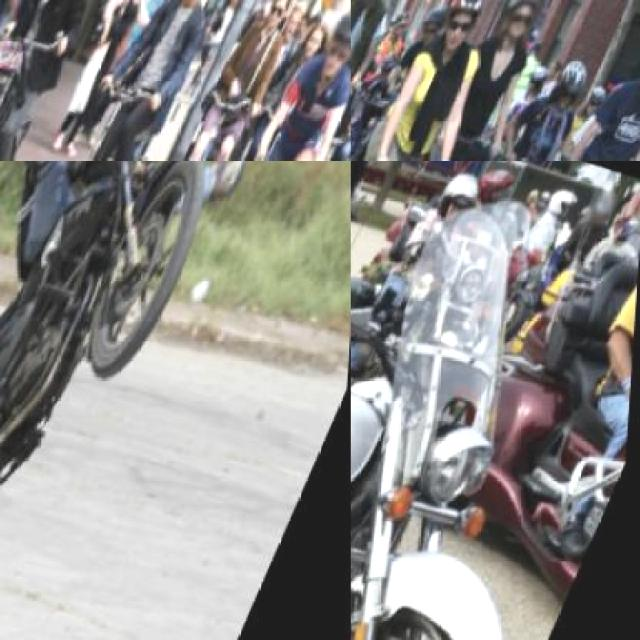With Helmet: (424, 0, 501, 75), (350, 160, 404, 249), (428, 164, 492, 239), (546, 56, 603, 130), (496, 0, 556, 60), (312, 3, 350, 94), (540, 188, 586, 240), (416, 4, 458, 58), (578, 196, 622, 247), (581, 88, 619, 137), (604, 214, 638, 261), (360, 0, 412, 22)
Without Helmet: (260, 0, 302, 46)
